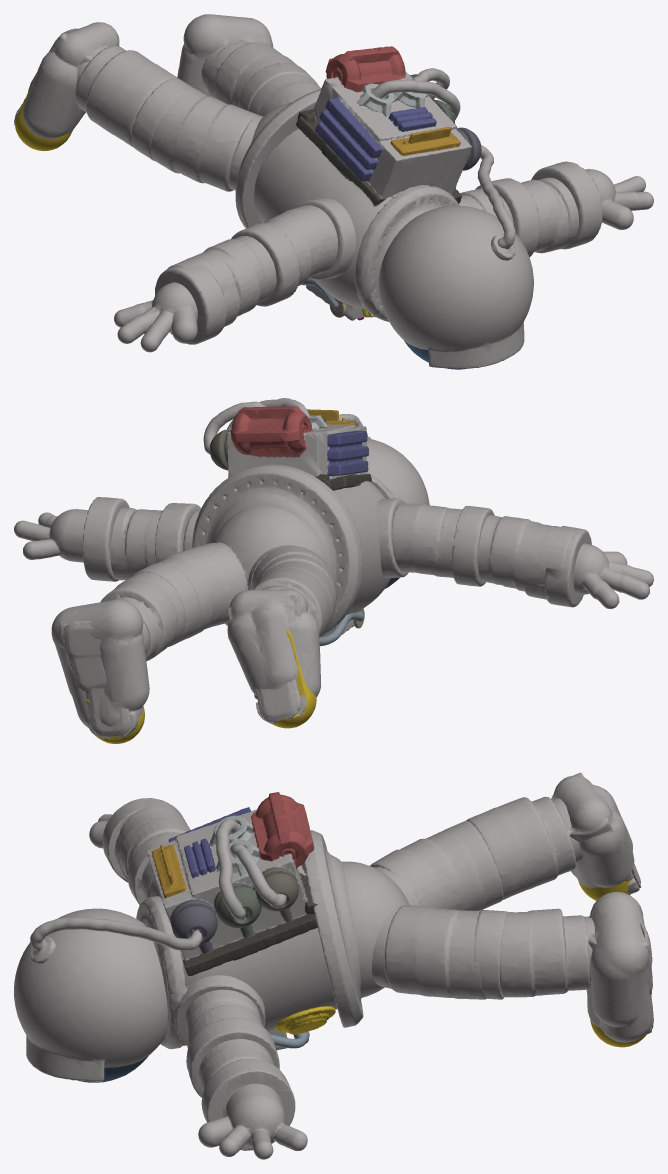
3 renders of one model, top to bottom at view 1: azimuth 30°, elevation 25°; view 2: azimuth 150°, elevation 25°; view 3: azimuth 270°, elevation 25°, orthographic. The views are drawn at different scales.
Parts seen in each view (by area): view 1: Object_3, Object_5, Object_4, Object_2; view 2: Object_3, Object_5, Object_4, Object_2; view 3: Object_3, Object_5, Object_4, Object_2.
Boxes of the visible parts, bbox=[...] form: Object_3: bbox=[14, 14, 578, 368]; Object_5: bbox=[15, 39, 602, 344]; Object_4: bbox=[585, 169, 653, 229]; Object_2: bbox=[15, 87, 466, 369]; Object_3: bbox=[51, 398, 653, 738]; Object_5: bbox=[63, 436, 591, 736]; Object_4: bbox=[14, 509, 88, 562]; Object_2: bbox=[85, 577, 399, 743]; Object_3: bbox=[14, 772, 652, 1091]; Object_5: bbox=[29, 798, 653, 1150]; Object_4: bbox=[198, 1084, 307, 1159]; Object_2: bbox=[78, 879, 651, 1082].
Bounding box in the file's own units: 101 × 41.88 × 89.34.
